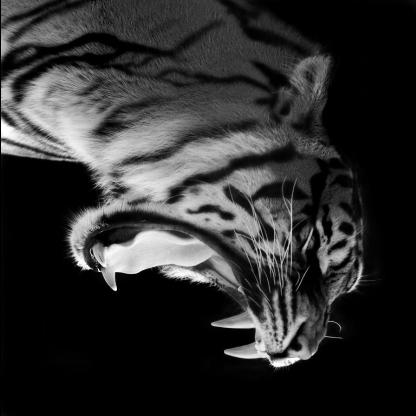tiger: (54, 55, 392, 378)
